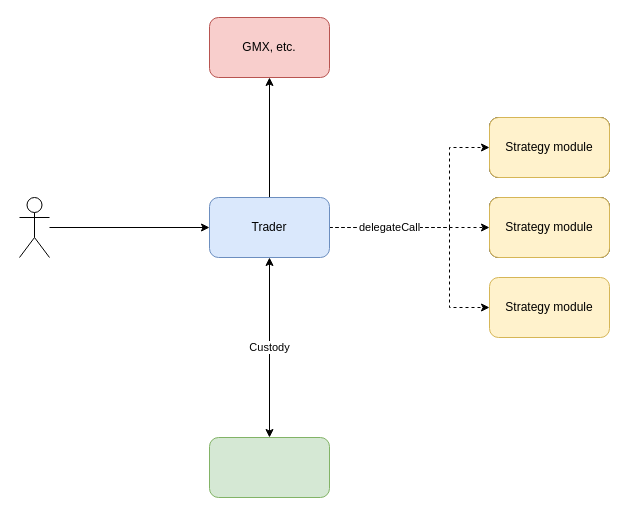
Image size: 627x515. Some labels were removed from this diagram. Each missing label, with the box of its shape:
Trader Admin: (18, 196, 50, 258)
Vault: (208, 436, 330, 498)
